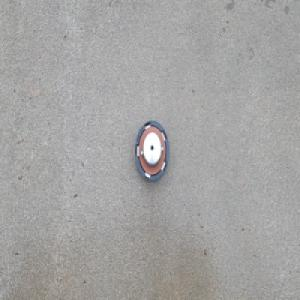FuelCap: (132, 118, 168, 183)
